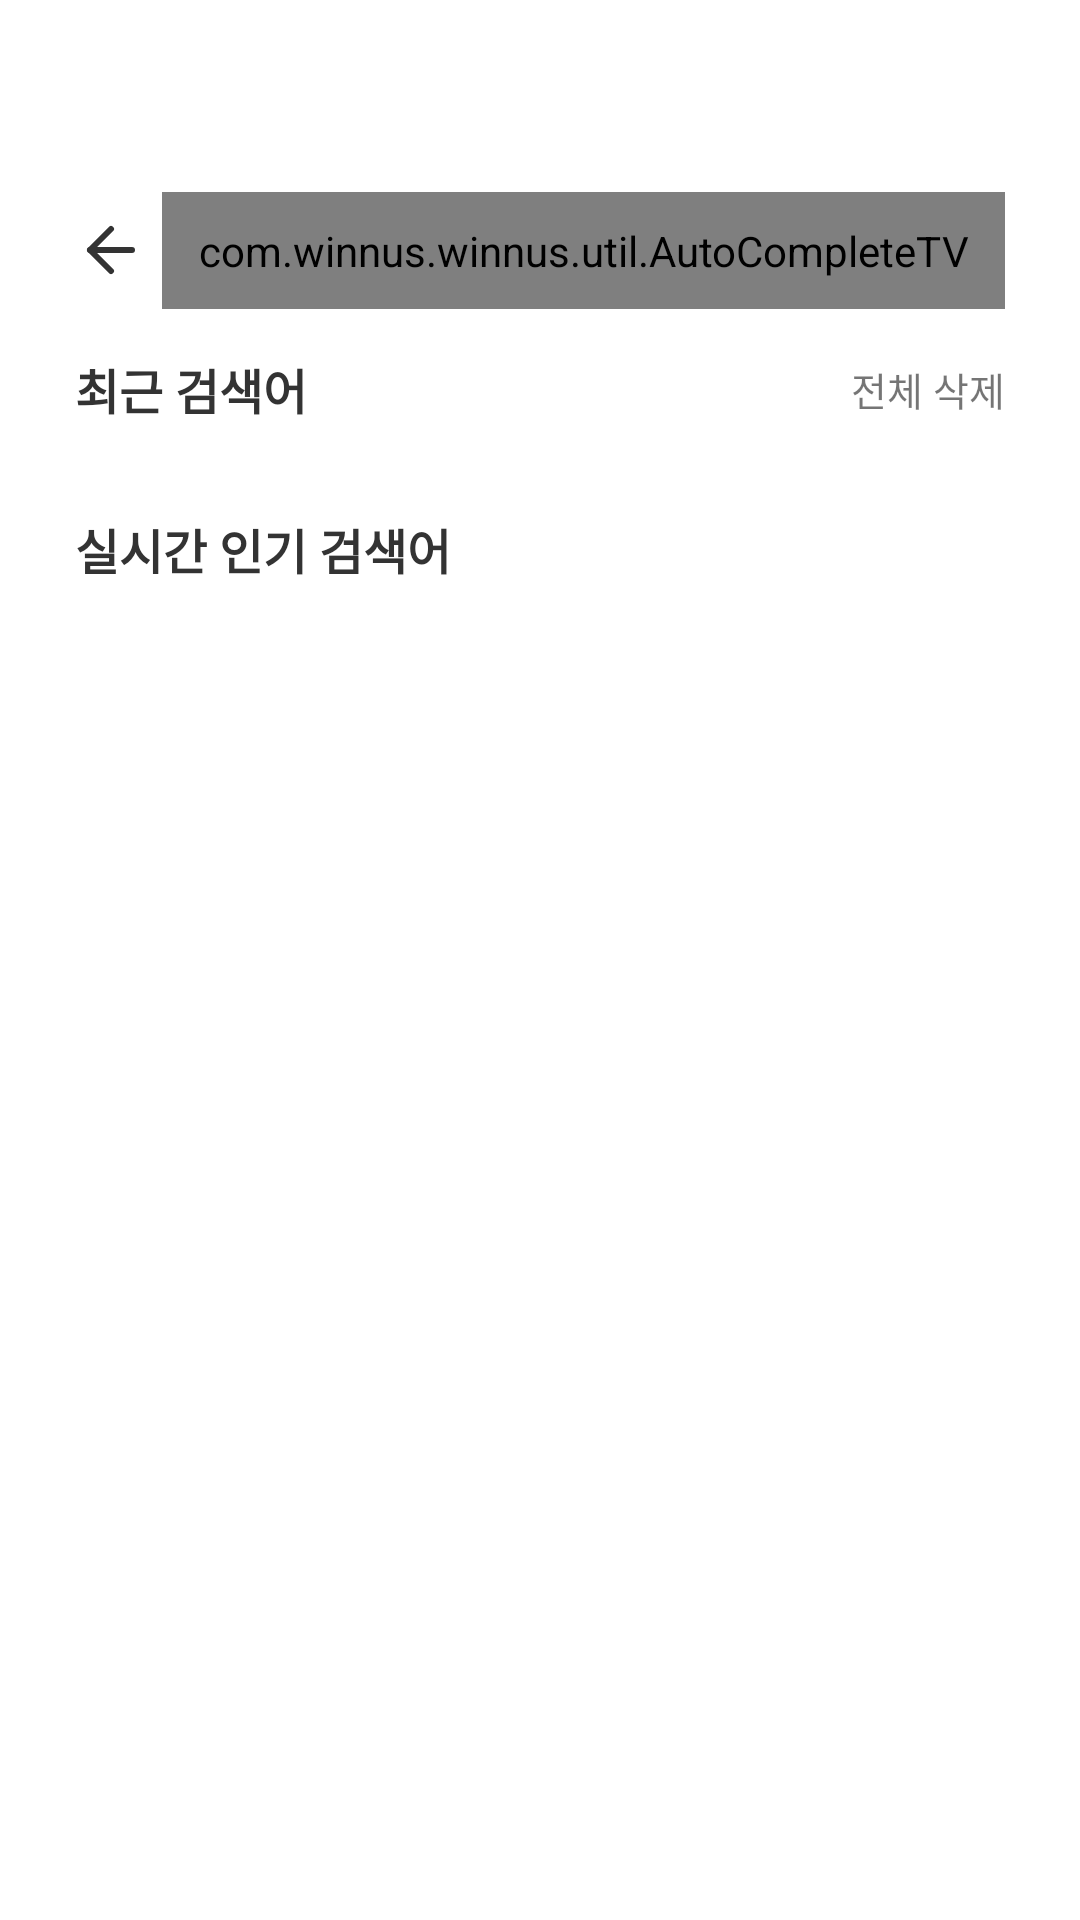

Icons on this 1080 x 1920 Android screen, each with its box as (x1, y1, x2, y2):
winnus arrow: (87, 226, 135, 274)
